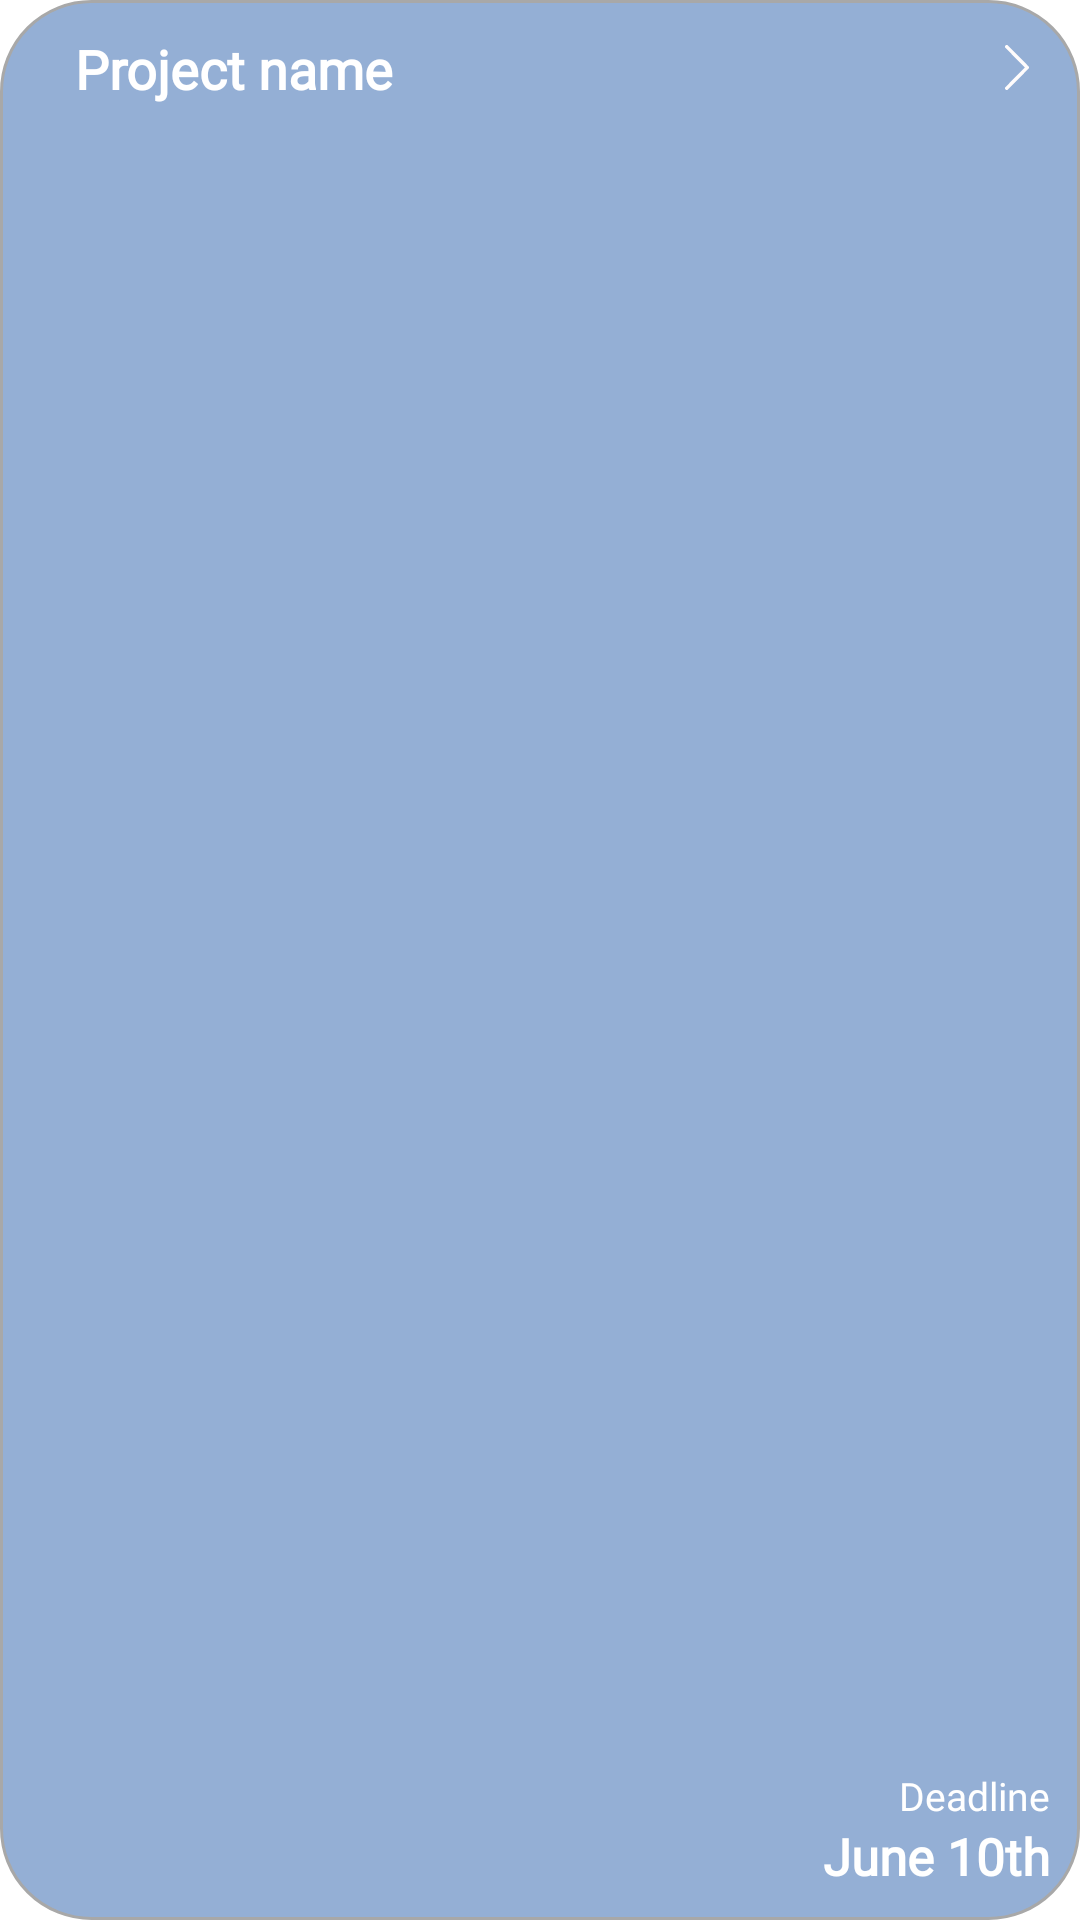

Icon bounding boxes for this 1080*1920 phone screenshot, format (x1, y1, x2, y2):
arrow: (1005, 45, 1029, 90)
